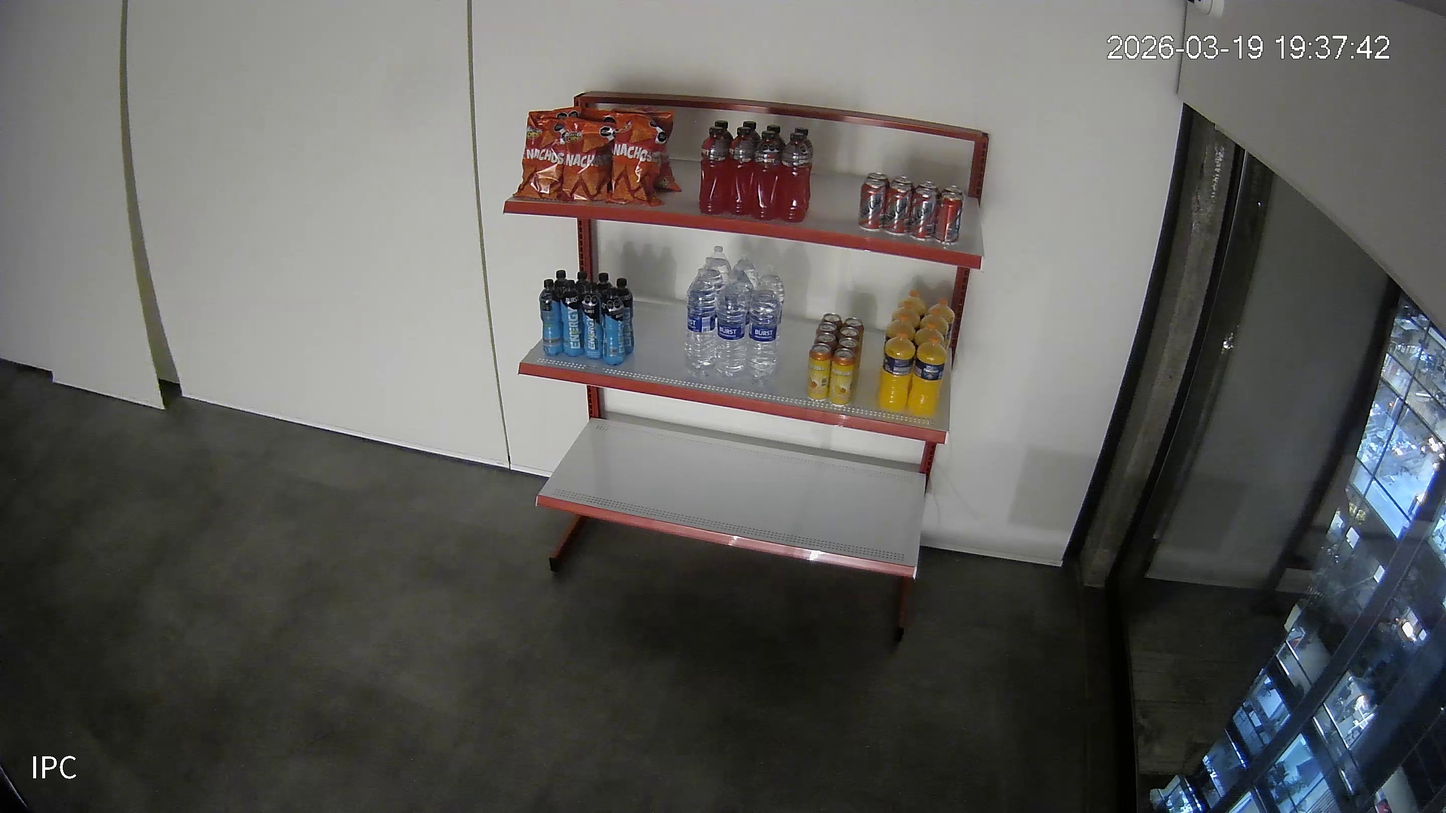agua_burst: (713, 275, 750, 378), (684, 268, 717, 376), (711, 246, 731, 282)
burst_energetica_roja: (699, 126, 728, 214), (743, 121, 761, 143)
burst_energy: (560, 279, 585, 357), (601, 287, 625, 365)
nachos_naturasol: (605, 113, 668, 206), (528, 106, 582, 119), (579, 108, 616, 124)
nebraska_mango: (828, 348, 855, 405), (807, 342, 832, 401), (842, 317, 864, 368), (814, 332, 836, 354)
sisi_cola: (882, 183, 912, 236), (934, 191, 962, 245), (864, 172, 890, 190)
sun_paradise_naranja: (907, 335, 947, 417), (927, 297, 955, 352), (914, 320, 944, 351), (885, 313, 915, 343)
